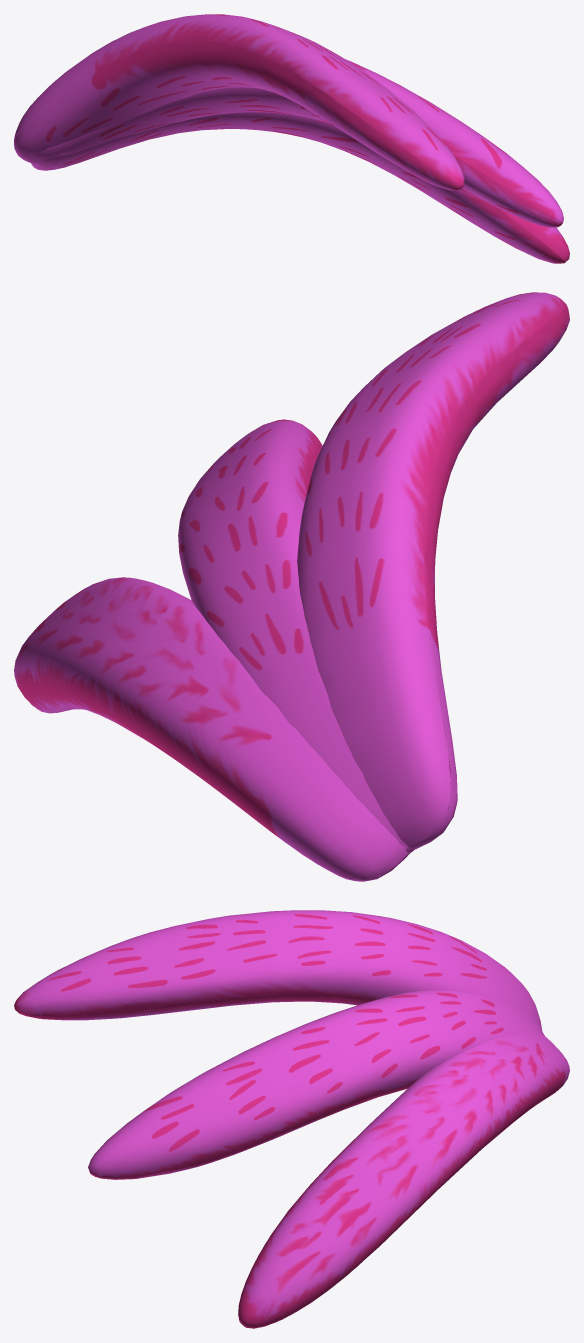
Rendered from sculpture_09.glb.
3 renders of one model, top to bottom at view 1: azimuth 30°, elevation 25°; view 2: azimuth 150°, elevation 25°; view 3: azimuth 270°, elevation 25°, orthographic. The views are drawn at different scales.
Visible parts, largest first — view 1: SCL_01_01; view 2: SCL_01_01; view 3: SCL_01_01.
Boxes of the visible parts, x1=… form: SCL_01_01: x1=14, y1=14, x2=569, y2=263; SCL_01_01: x1=14, y1=292, x2=569, y2=881; SCL_01_01: x1=14, y1=910, x2=569, y2=1328.
Bounding box in the file's own units: 0.3062 × 0.2028 × 0.3594.
1 material, 1 textured.
